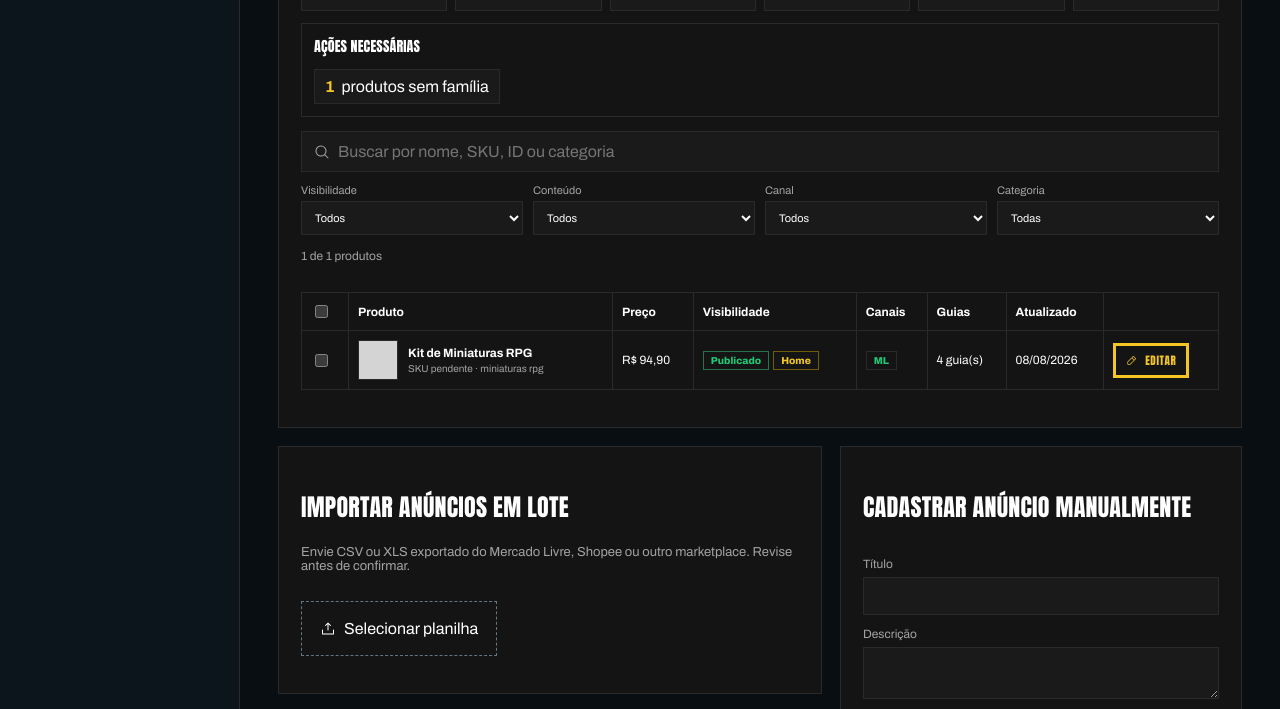
Test: lets an admin save storefront visibility and featured preferences
(page scrolled)
A edição agora acontece num drawer: abrir pelo botão Editar da linha do produto.
Click the button "Editar" at (1151, 360), box [1113,343,1189,378]
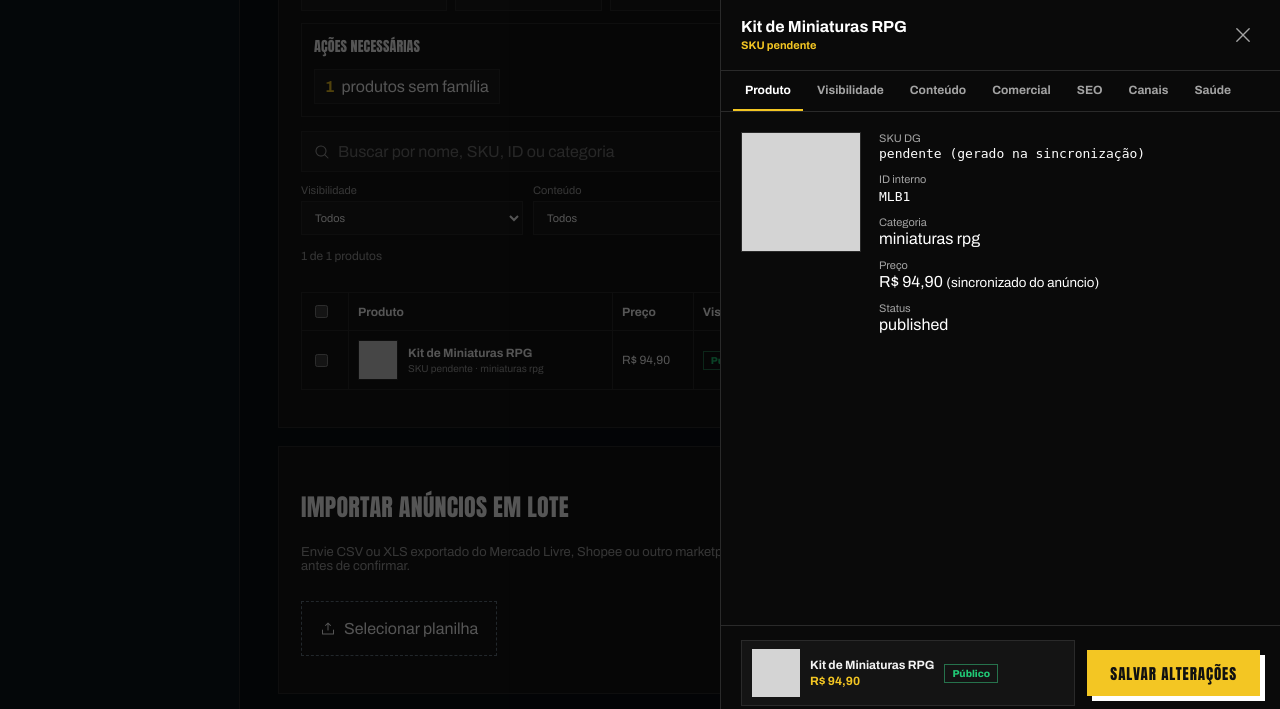
Click the button "Visibilidade" at (850, 91), box [805,71,896,111]
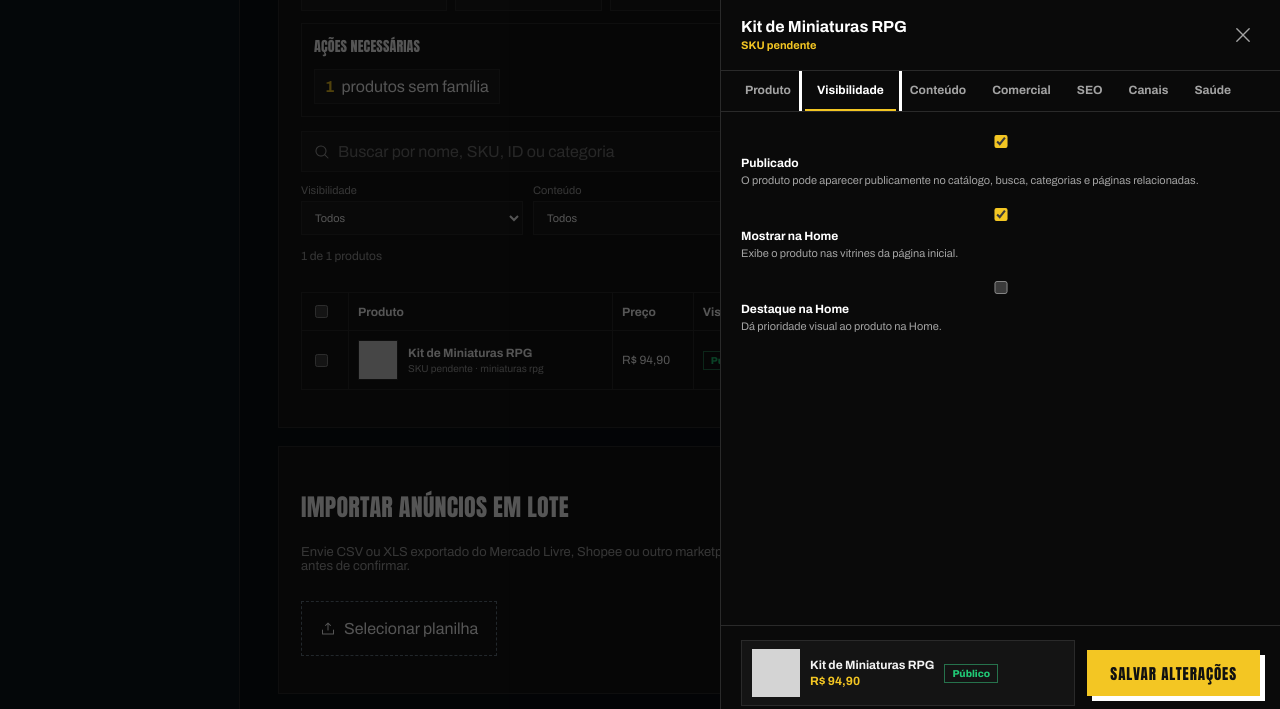
Result: the checkbox labelled "Publicado" is checked at [745,135,1257,148]
Result: the checkbox labelled "Mostrar na Home" is shown at [745,208,1257,221]
Click the checkbox labelled "Destaque na Home Dá prioridade visual ao produto na Home." at (1001, 287), box [745,281,1257,294]
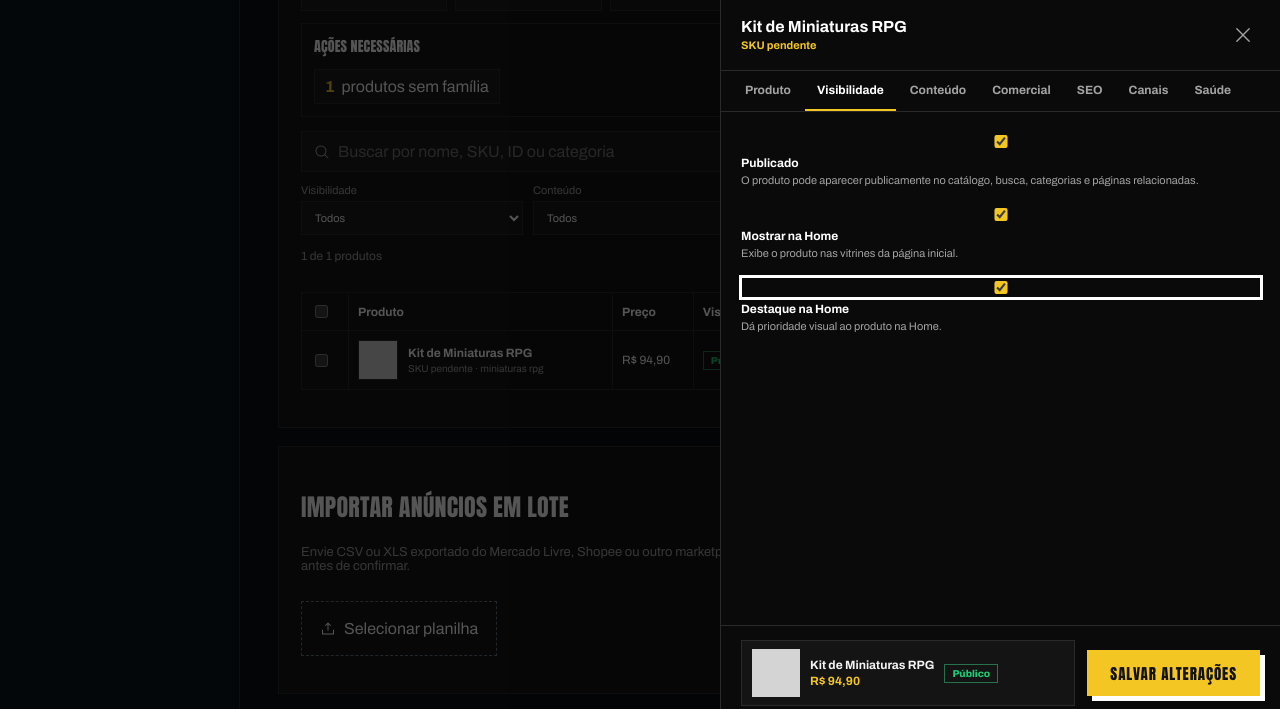
Click the button "Salvar alterações" at (1174, 673), box [1087,650,1260,696]
(page scrolled)
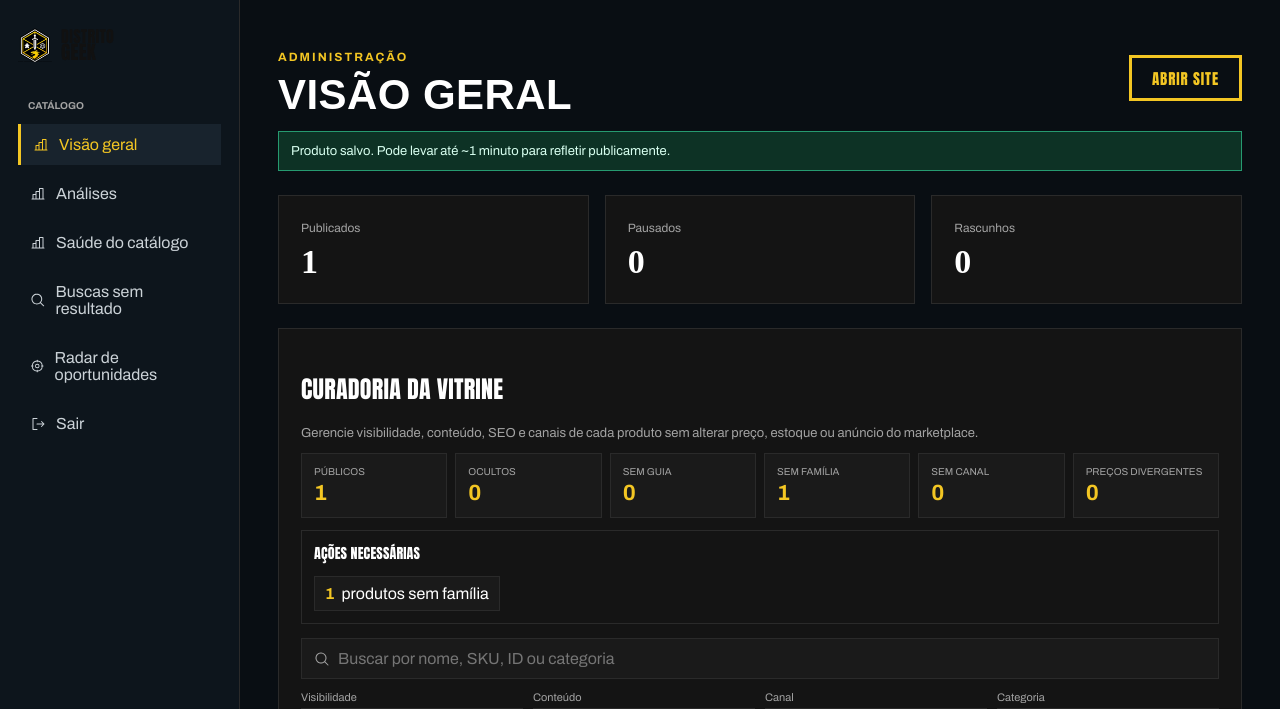
Result: the text "Produto salvo. Pode levar até ~1 minuto para refletir publicamente." is shown at [278,131,1242,171]
